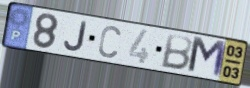4: (127, 28, 150, 66)
8: (32, 12, 60, 50)
B: (159, 32, 195, 72)
C: (97, 24, 123, 60)
J: (62, 20, 89, 53)
M: (185, 35, 229, 80)
